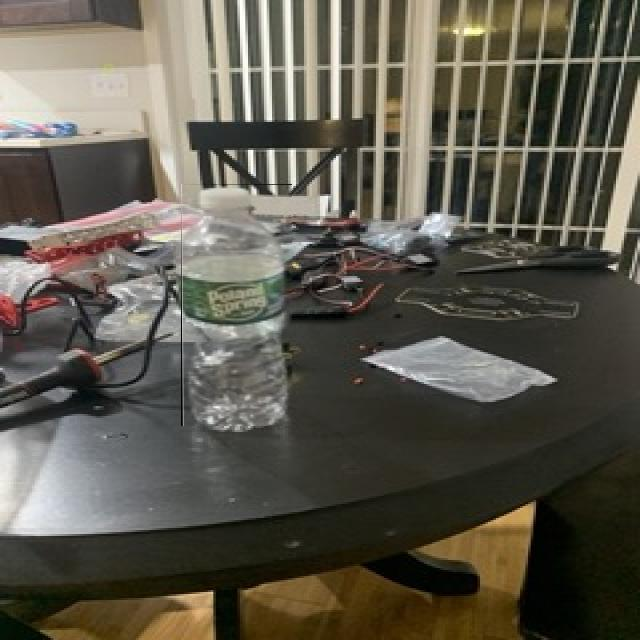water_bottle: (181, 184, 292, 426)
